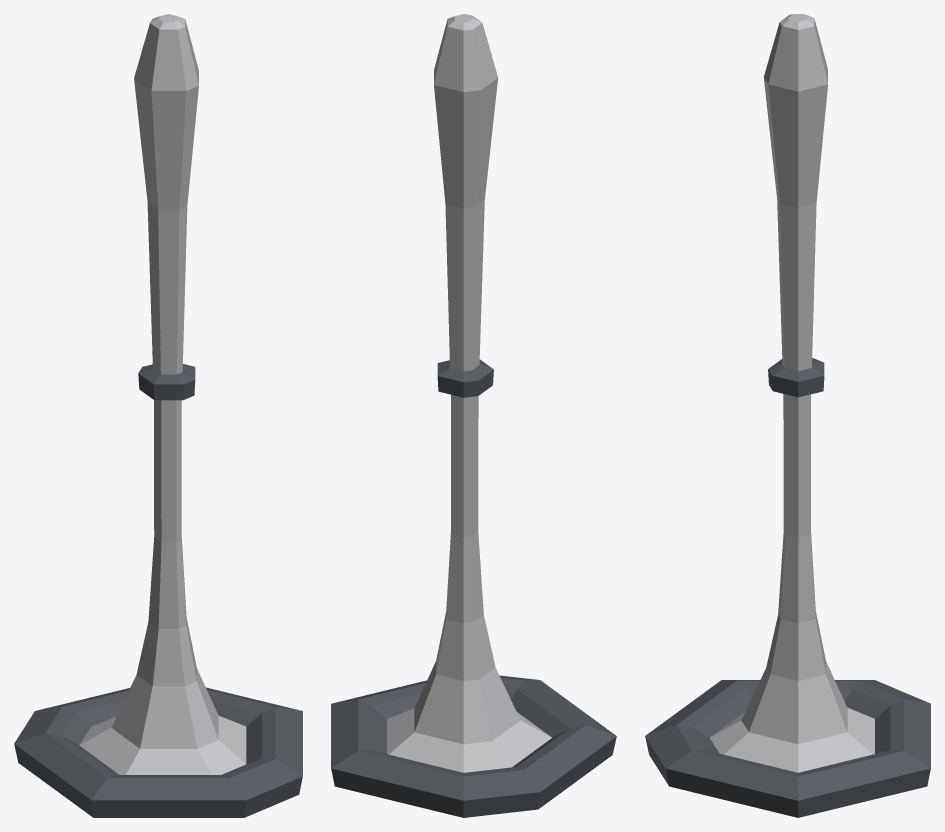
Rendered from Dropship_02_Antenna.fbx.
The picture shows the model from 3 angles, left to right: view 1: azimuth 30°, elevation 25°; view 2: azimuth 150°, elevation 25°; view 3: azimuth 270°, elevation 25°; orthographic projection.
Visible parts, largest first — view 1: Dropship_02_Antenna; view 2: Dropship_02_Antenna; view 3: Dropship_02_Antenna.
Boxes of the visible parts, x1=… form: Dropship_02_Antenna: x1=14, y1=14, x2=302, y2=817; Dropship_02_Antenna: x1=331, y1=14, x2=616, y2=817; Dropship_02_Antenna: x1=645, y1=14, x2=930, y2=817.
Size of the model in its own units: 95.25 by 271 by 95.25.
1 material, 1 textured.
